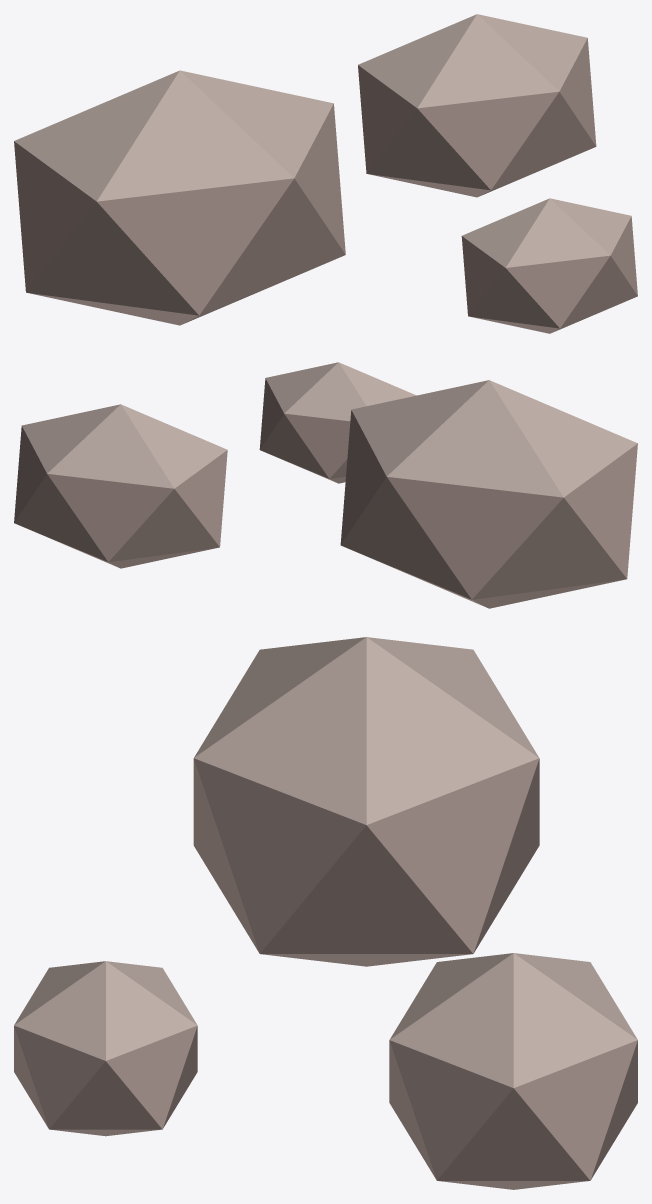
Rendered from path_pebble_cluster_01.glb.
The picture shows the model from 3 angles, top to bottom: view 1: azimuth 30°, elevation 25°; view 2: azimuth 150°, elevation 25°; view 3: azimuth 270°, elevation 25°; orthographic projection. The views are drawn at different scales.
Visible parts, largest first — view 1: path_pebble_cluster_01; view 2: path_pebble_cluster_01; view 3: path_pebble_cluster_01.
Part boxes in pixels (left/top/right/bottom): path_pebble_cluster_01: left=14, top=14, right=637, bottom=333; path_pebble_cluster_01: left=14, top=362, right=637, bottom=608; path_pebble_cluster_01: left=14, top=637, right=637, bottom=1189.
Size of the model in its own units: 0.138 by 0.0544 by 0.0933.
